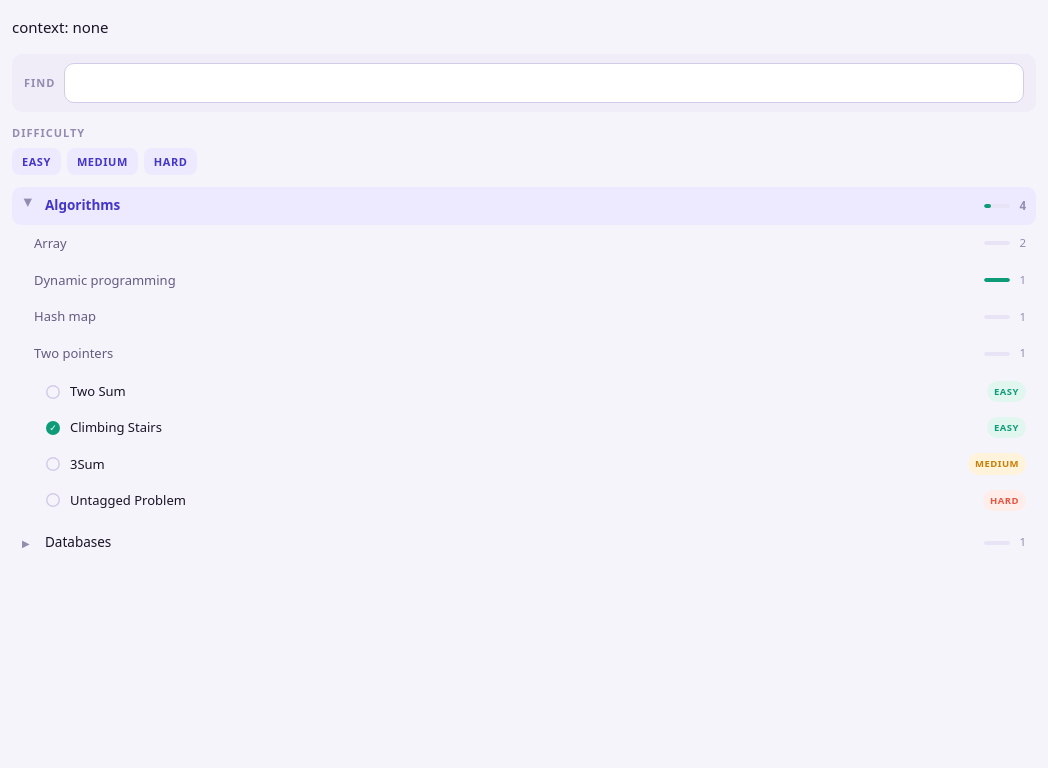
Test: TreeBrowser sidebarMode (issue: swe-practice-fs-build) › nests rich item rows (chip + checkmark) under an expanded pattern, and reports its context
Click the button "Array 2" at coordinates (50, 243), box [12,225,1036,262]
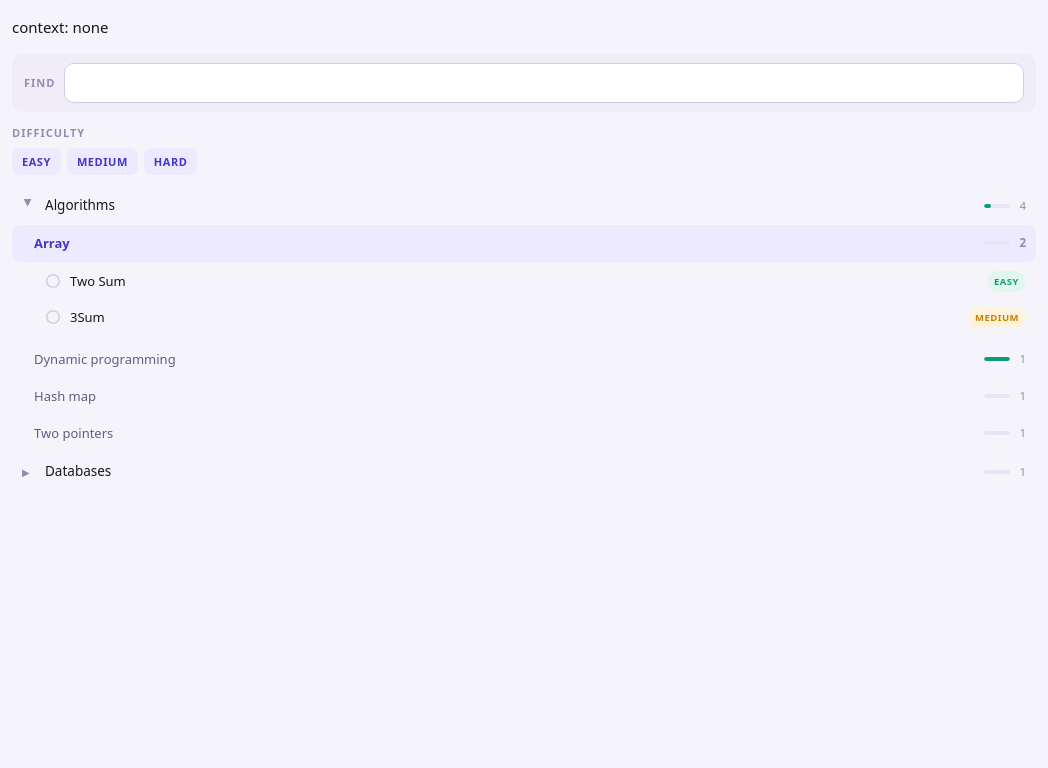
Expected: the text with class "chipx" reads "Easy", [994,275,1019,288]
Click the button "Two Sum Easy" at coordinates (98, 281), box [16,264,1036,299]
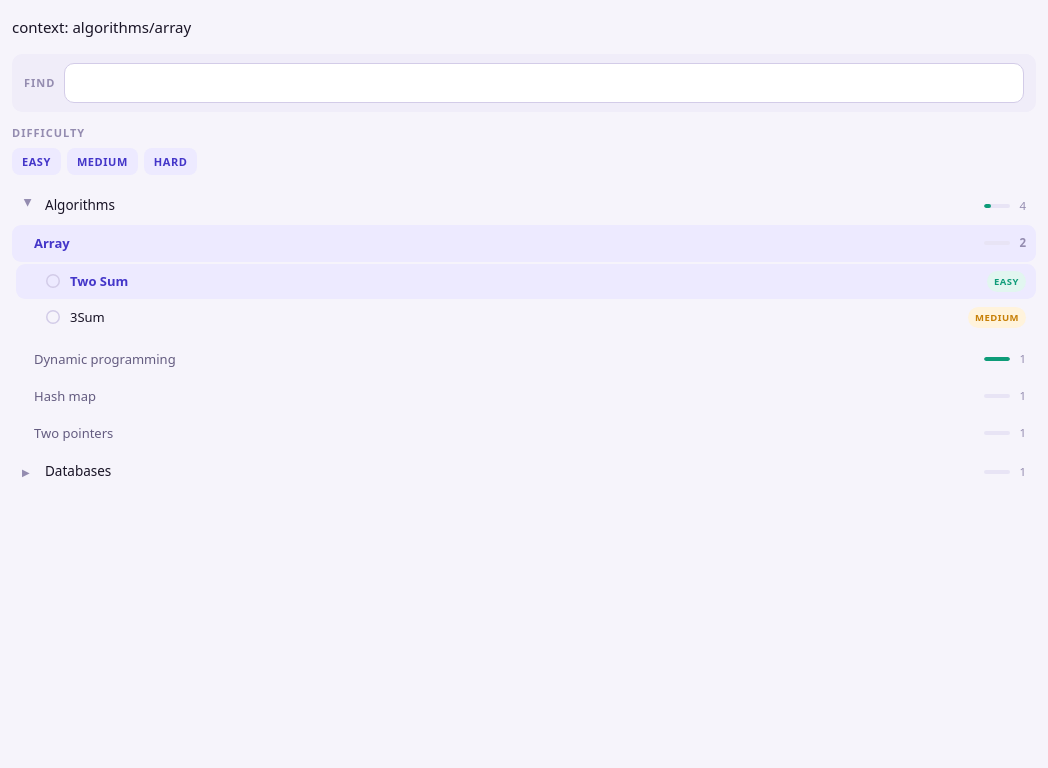
Now the text "context: algorithms/array" is shown, box [12,17,191,37]
